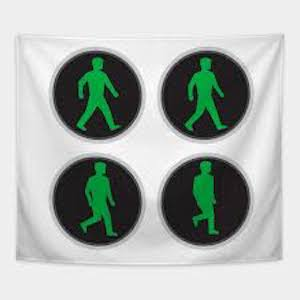green: (61, 52, 128, 134), (69, 155, 125, 237), (176, 56, 232, 130), (183, 156, 230, 242)
